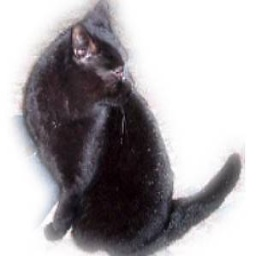cat: (18, 8, 237, 254)
